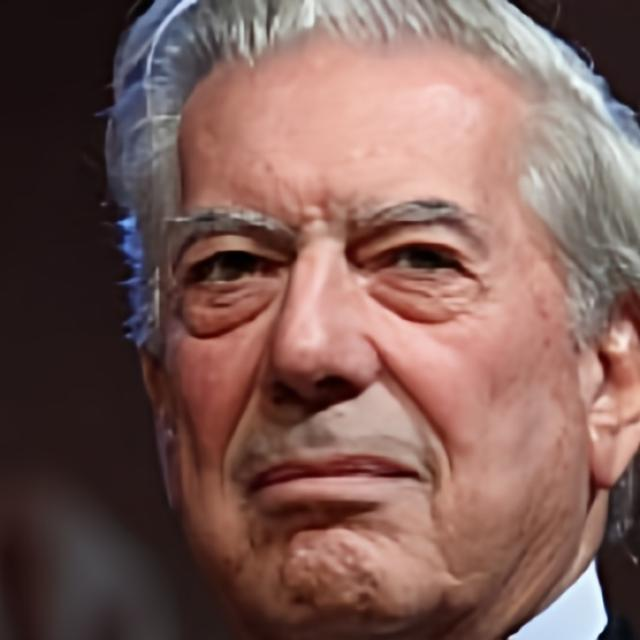disgust: (146, 27, 590, 640)
